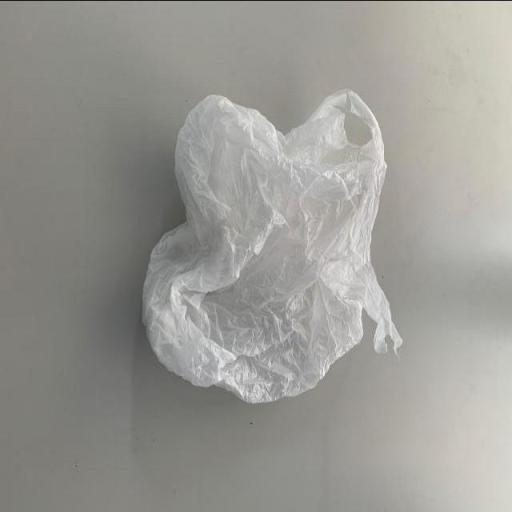plastic-bag: (136, 87, 409, 403)
